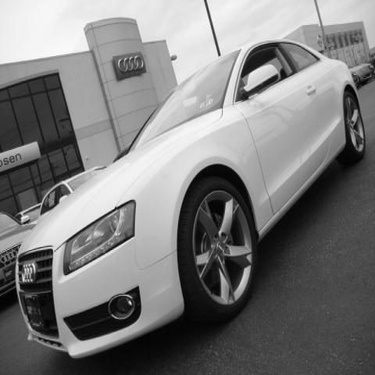car: (5, 38, 369, 363), (34, 160, 115, 236), (3, 206, 31, 309)
